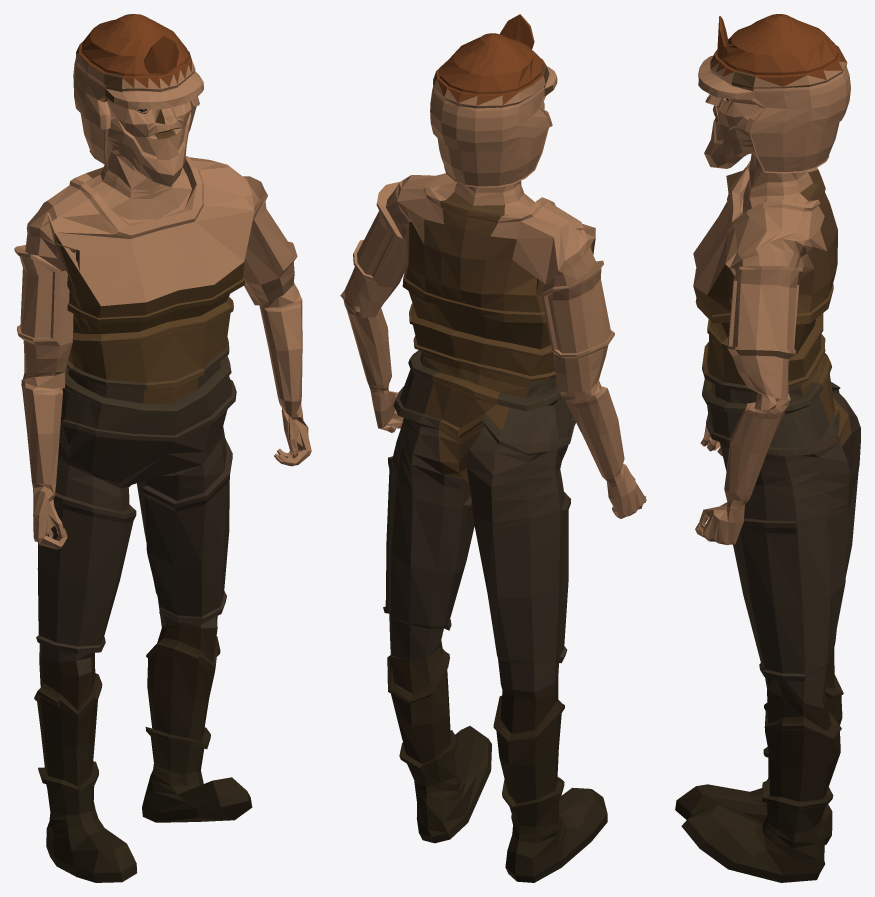
File: barbarian.glb
3 renders of one model, left to right at view 1: azimuth 30°, elevation 25°; view 2: azimuth 150°, elevation 25°; view 3: azimuth 270°, elevation 25°, orthographic. The views are drawn at different scales.
Parts seen in each view (by area): view 1: geometry_0; view 2: geometry_0; view 3: geometry_0.
Part boxes in pixels (x1,y1,x2,y2): geometry_0: (14,14,311,882); geometry_0: (340,14,646,882); geometry_0: (675,14,860,882).
Size of the model in its own units: 5.16 by 14.48 by 2.86.
